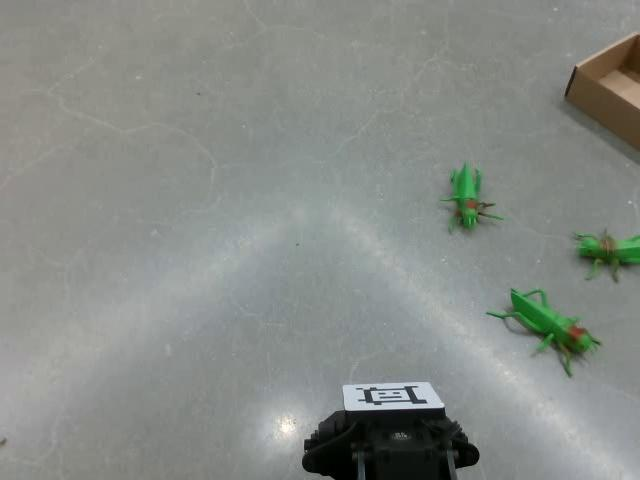box: (563, 30, 639, 151)
grasshopper: (485, 286, 602, 377), (439, 159, 503, 235), (571, 226, 639, 283)
